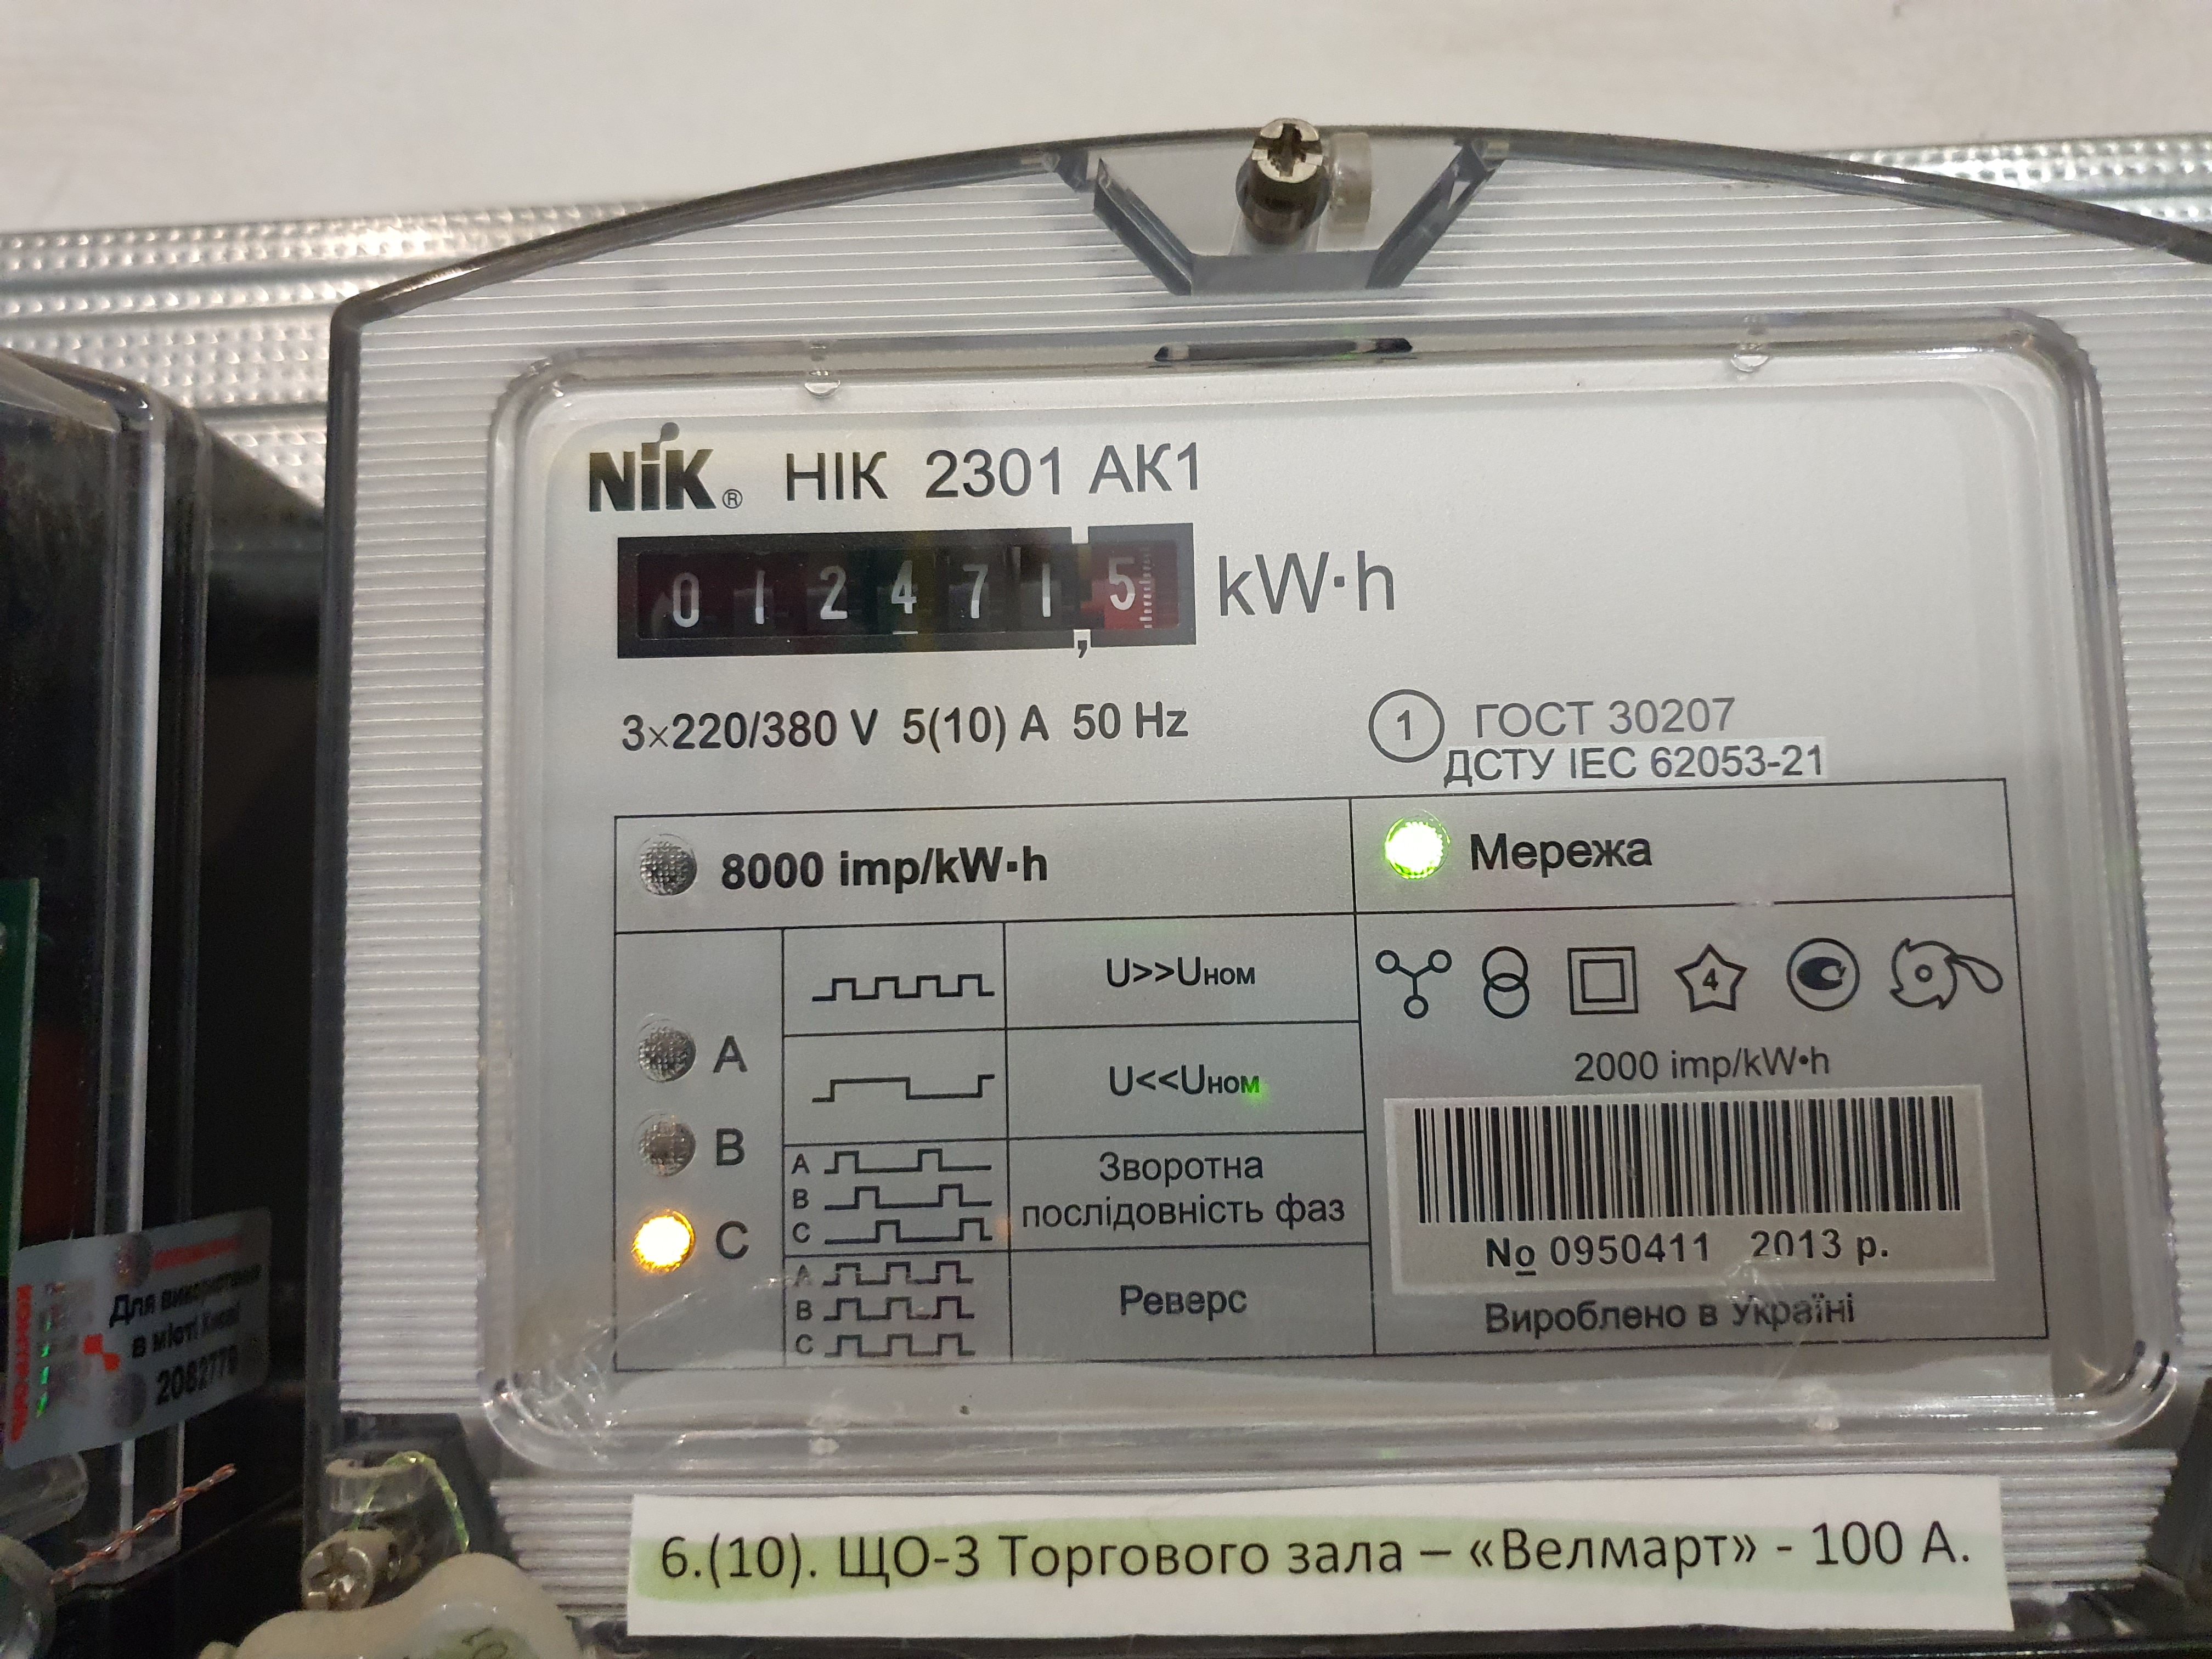0: (665, 568, 705, 629)
1: (1036, 558, 1055, 620), (751, 566, 770, 627)
2: (817, 561, 852, 624)
4: (888, 556, 921, 619)
5: (1104, 549, 1141, 615)
7: (956, 558, 991, 624)
screen: (599, 507, 1217, 674)
